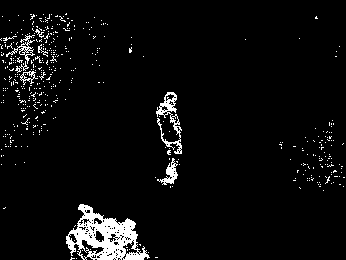person: (153, 90, 184, 188)
